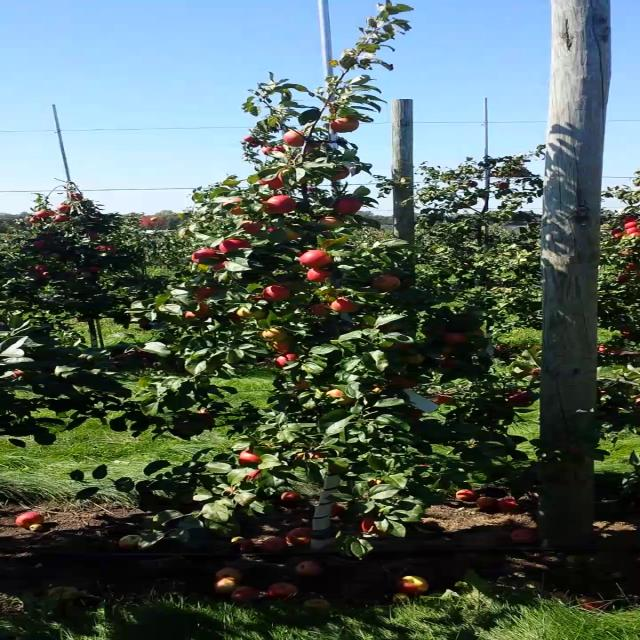apple: (299, 250, 333, 268), (266, 195, 295, 213), (334, 198, 362, 215), (507, 388, 533, 406), (192, 249, 221, 265), (370, 275, 399, 291), (326, 297, 356, 312), (325, 389, 353, 405), (262, 285, 290, 301), (331, 118, 358, 134), (220, 239, 250, 253), (223, 198, 247, 215), (275, 353, 297, 371), (235, 308, 268, 320), (306, 268, 332, 282), (262, 328, 288, 342), (326, 165, 350, 180), (283, 130, 303, 146), (194, 409, 214, 425), (239, 450, 261, 464), (258, 178, 282, 190), (242, 221, 265, 233), (316, 217, 339, 229), (442, 333, 466, 344), (362, 518, 378, 534), (282, 227, 300, 241), (598, 345, 623, 355), (404, 353, 426, 364), (272, 341, 292, 353), (388, 376, 408, 388), (378, 322, 402, 332), (194, 286, 217, 296), (438, 356, 457, 368), (260, 196, 274, 212), (213, 259, 231, 271), (370, 382, 388, 394), (309, 304, 330, 314), (398, 379, 419, 389), (246, 468, 262, 481), (424, 326, 450, 334), (262, 220, 278, 232), (305, 142, 324, 152), (516, 398, 534, 408), (249, 296, 271, 304), (191, 294, 205, 306), (468, 328, 484, 338), (12, 369, 28, 379), (432, 395, 451, 403), (272, 282, 297, 288), (196, 302, 209, 313), (277, 172, 287, 186), (295, 380, 309, 390), (367, 481, 386, 488), (262, 145, 275, 155), (441, 346, 457, 354), (411, 409, 421, 421), (272, 145, 286, 153), (598, 390, 606, 404), (312, 452, 330, 458), (567, 448, 585, 454), (376, 528, 389, 536), (184, 311, 196, 319), (228, 312, 240, 320), (295, 452, 309, 458), (257, 140, 267, 148), (621, 328, 631, 336), (318, 229, 330, 235), (392, 344, 409, 348), (244, 136, 254, 142), (250, 143, 258, 148), (636, 398, 639, 403)
